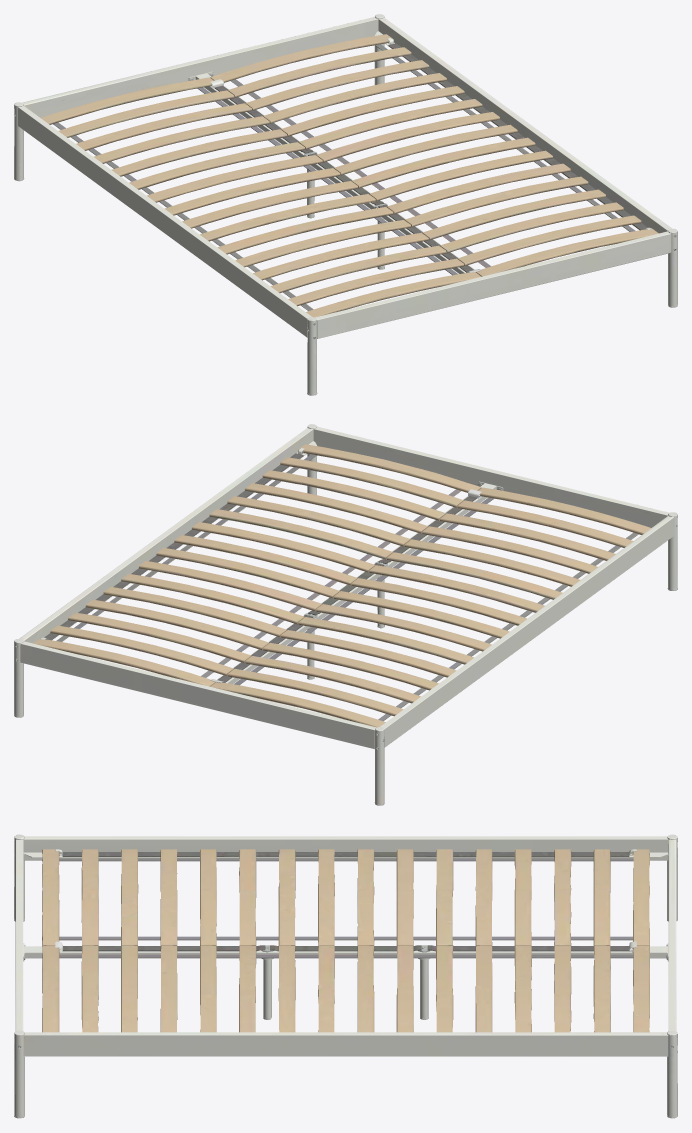
3 views of the same model, one above another, from view 1: azimuth 30°, elevation 25°; view 2: azimuth 150°, elevation 25°; view 3: azimuth 270°, elevation 25° (orthographic). The views are drawn at different scales.
Parts seen in each view (by area): view 1: model; view 2: model; view 3: model.
Boxes of the visible parts, <box> form: model: <box>14,14,677,395</box>; model: <box>14,424,677,805</box>; model: <box>14,834,677,1118</box>.
Size of the model in its own units: 1.41 by 0.2737 by 1.97.
Materials: 1 (1 with a texture image).
